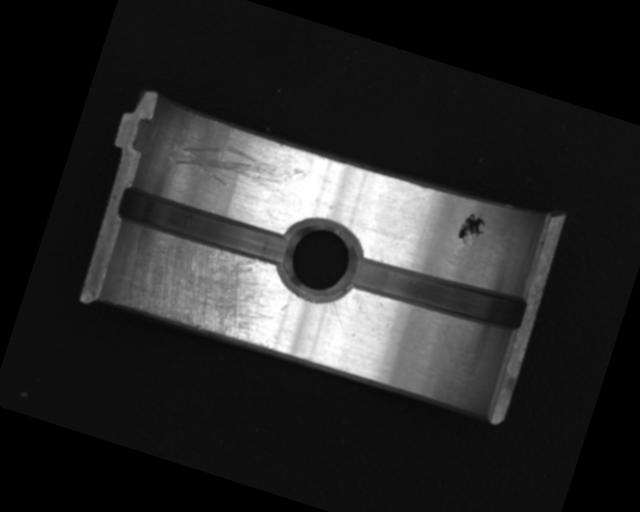blot: (455, 208, 490, 249)
gap: (343, 243, 534, 341), (114, 182, 293, 270)
hole: (270, 214, 367, 307)
nick: (170, 127, 308, 208), (321, 297, 357, 338)
scratch: (108, 220, 292, 352)
